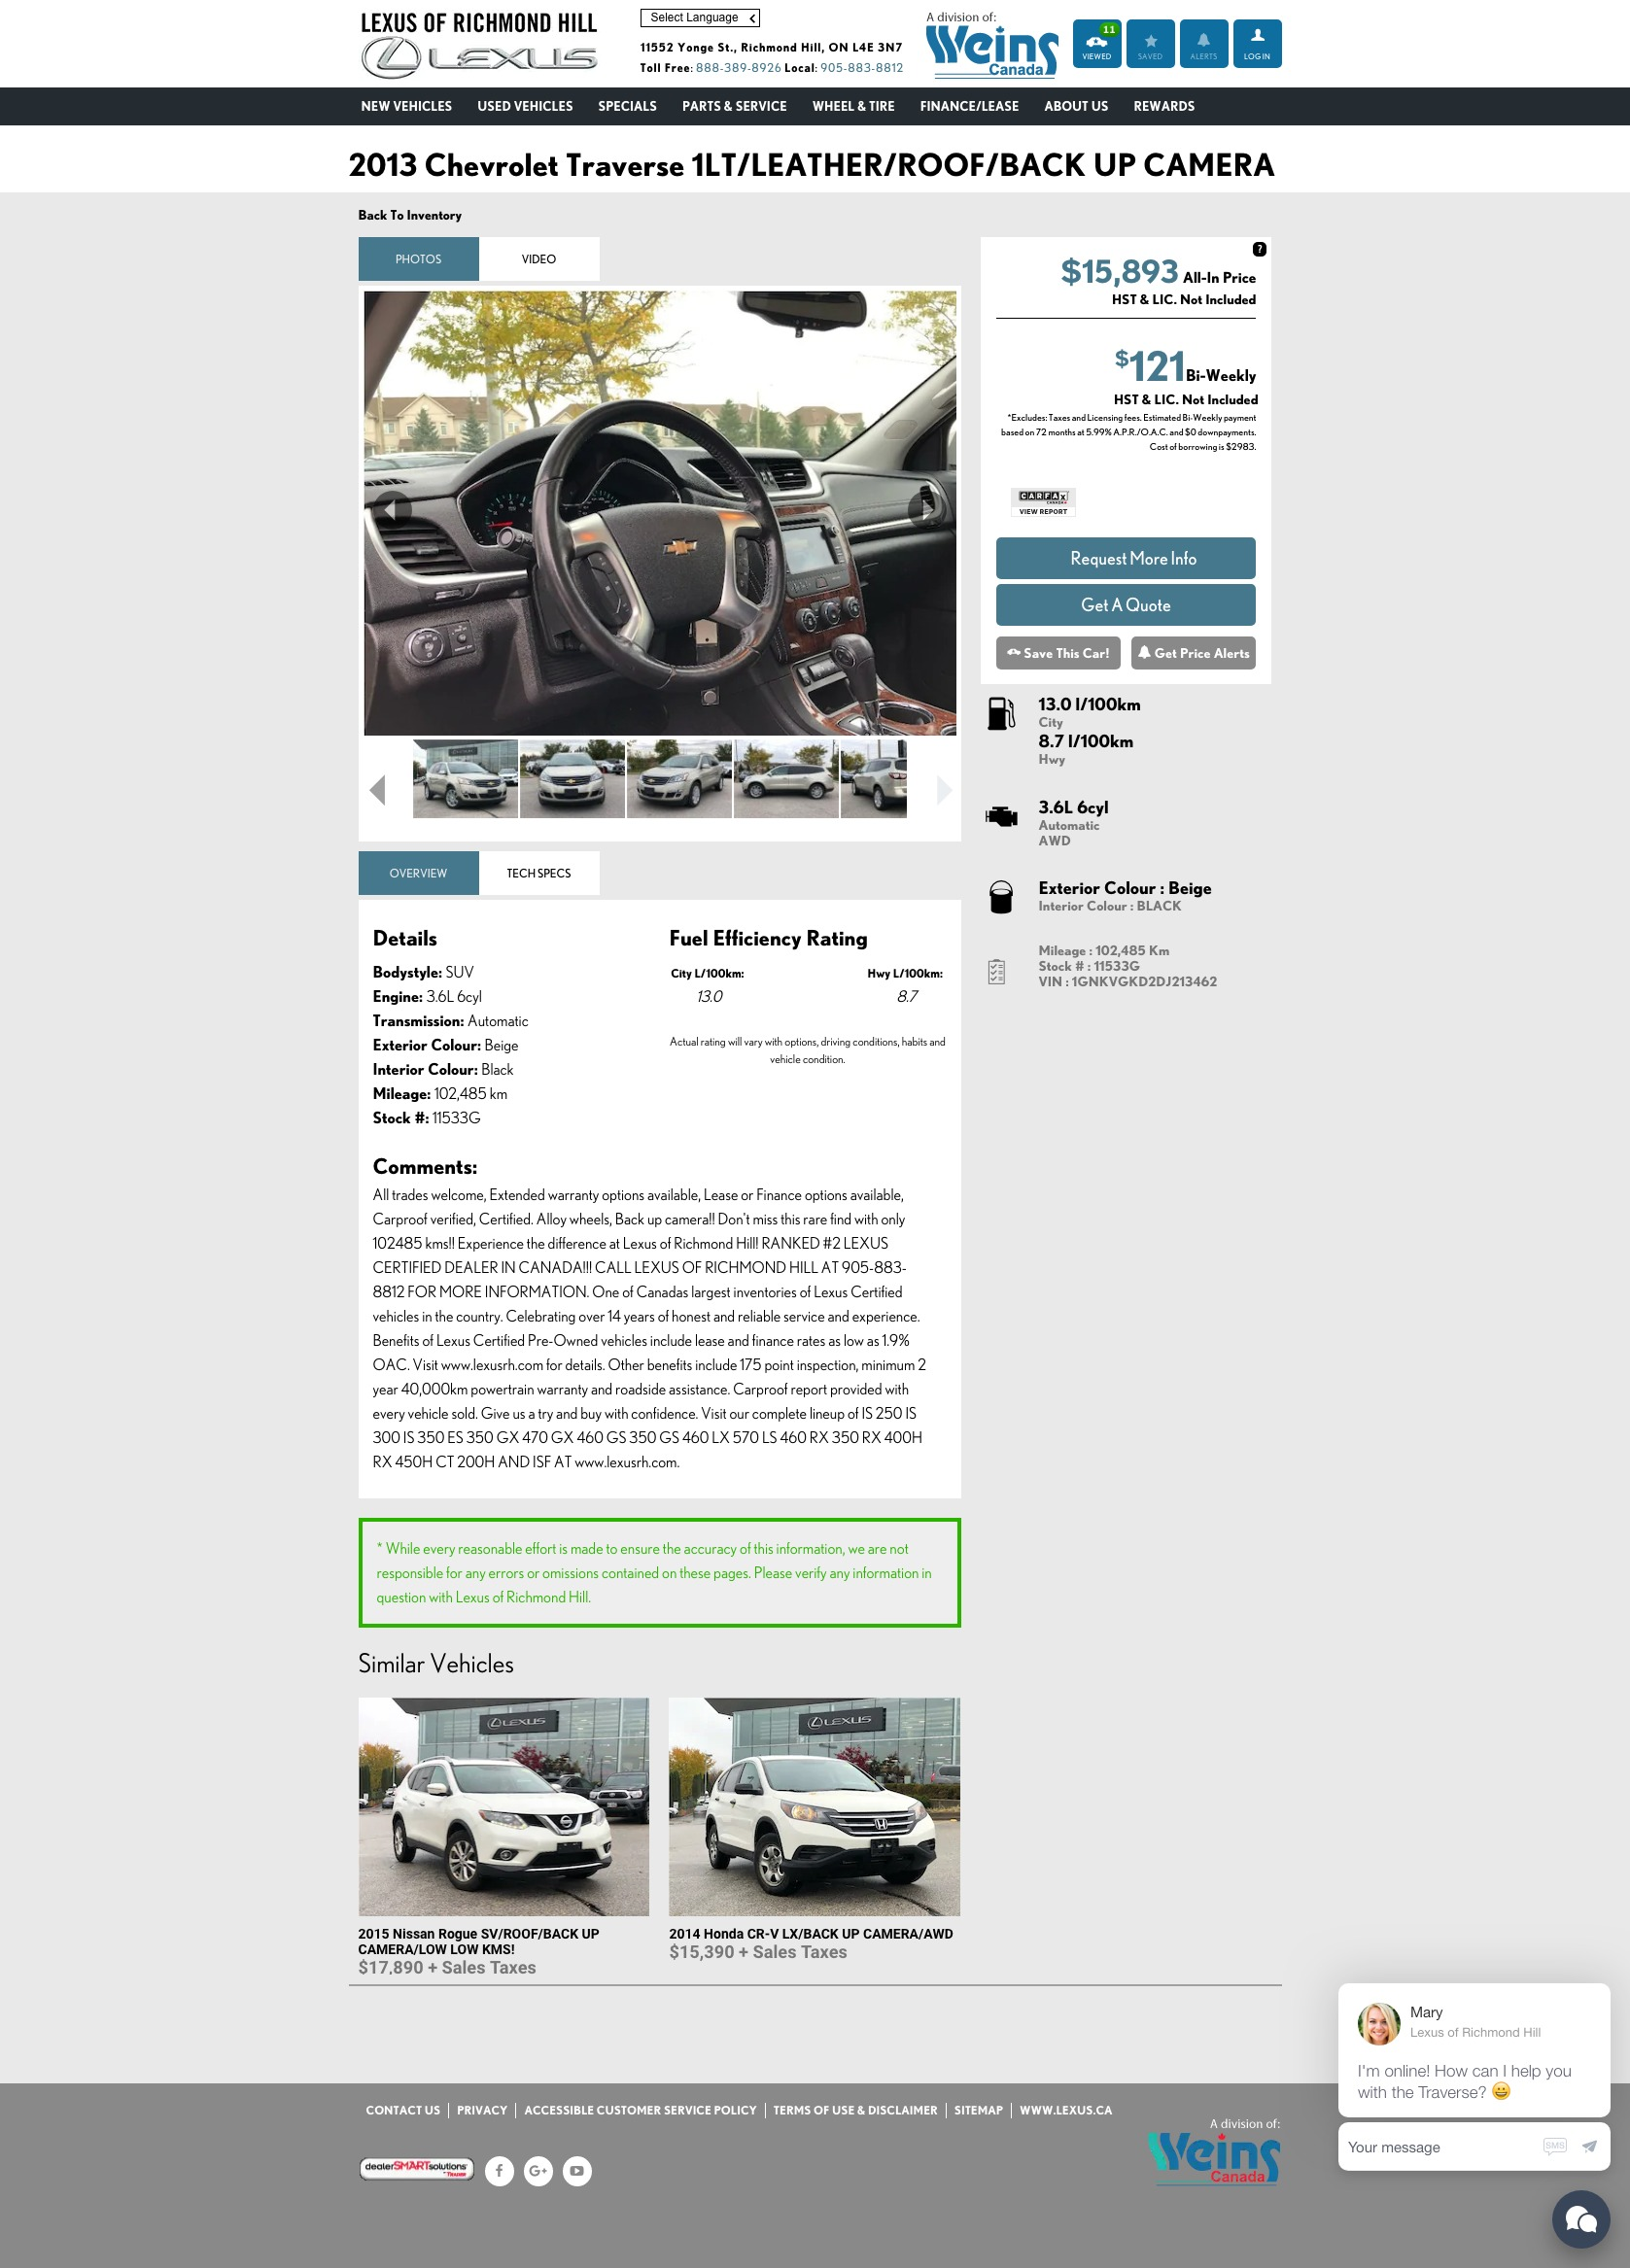car: (936, 775, 955, 808)
